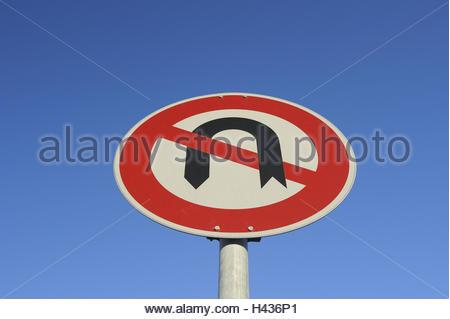no_u_turn: (111, 91, 357, 239)
